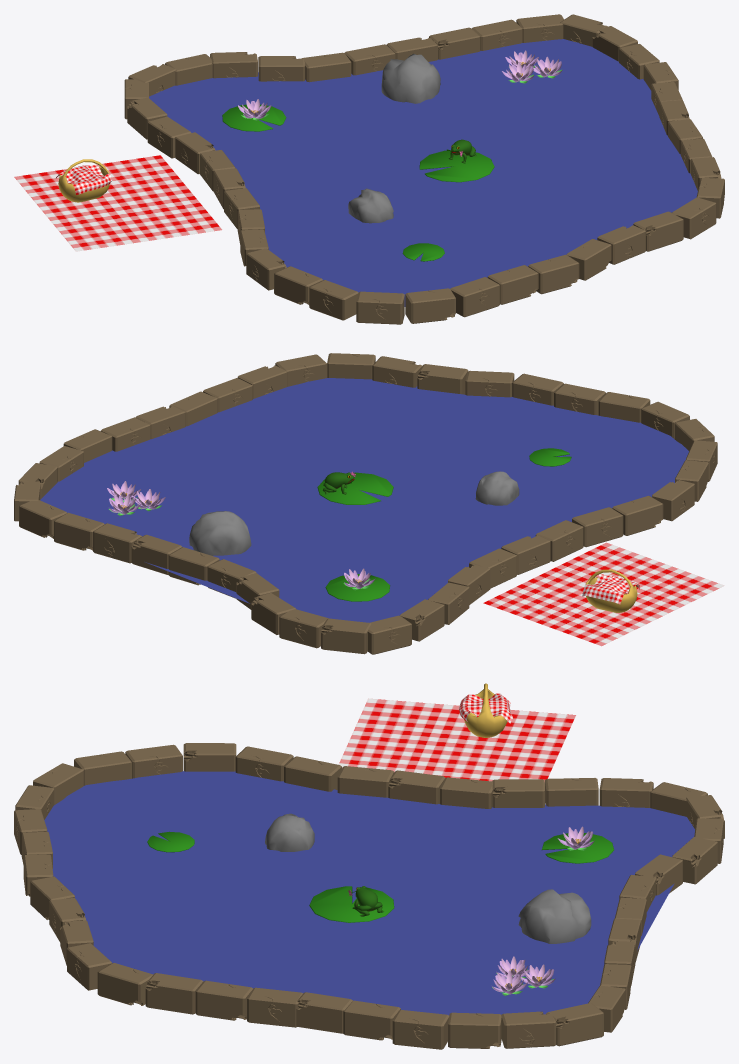
The model's file is Estanque acueducto.fbx.
The picture shows the model from 3 angles, top to bottom: view 1: azimuth 30°, elevation 25°; view 2: azimuth 150°, elevation 25°; view 3: azimuth 270°, elevation 25°; orthographic projection. The views are drawn at different scales.
Parts seen in each view (by area): view 1: Flor; view 2: Flor; view 3: Flor.
Part boxes in pixels (x1=…): Flor: x1=14, y1=14, x2=724, y2=324; Flor: x1=14, y1=353, x2=724, y2=654; Flor: x1=14, y1=683, x2=724, y2=1049.
Size of the model in its own units: 22.55 by 2.33 by 19.75.
18 materials, 1 textured.
